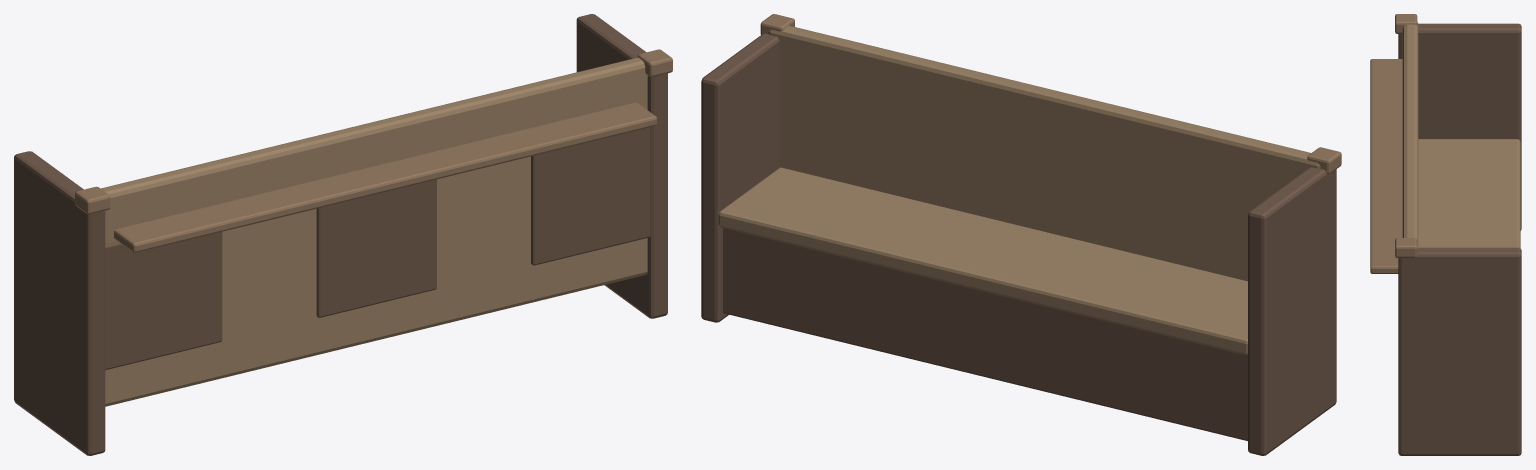
3 views of the same model, side by side, from view 1: azimuth 30°, elevation 25°; view 2: azimuth 150°, elevation 25°; view 3: azimuth 270°, elevation 25° (orthographic). The views are drawn at different scales.
Visible parts, largest first — view 1: pewRow; view 2: pewRow; view 3: pewRow.
Part boxes in pixels (x1,y1,x2,y2): pewRow: (14,14,672,455); pewRow: (701,14,1341,455); pewRow: (1370,14,1521,455).
Size of the model in its own units: 2.46 by 1.04 by 0.675.
